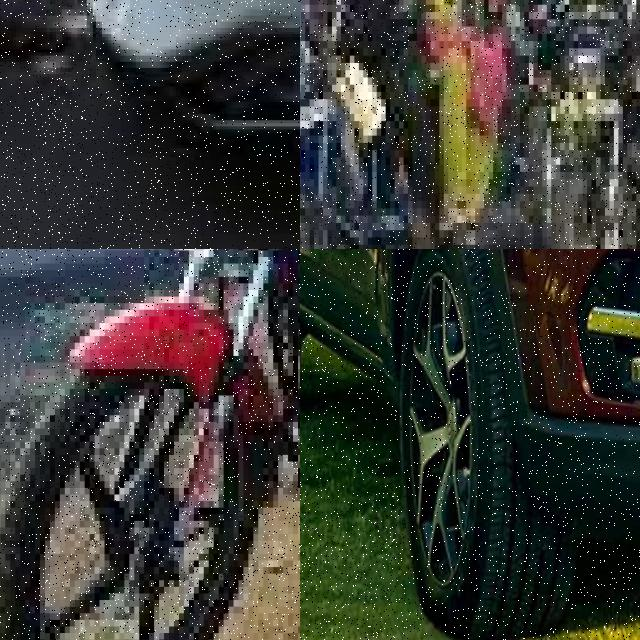bike: (0, 249, 300, 640), (300, 0, 497, 249), (538, 0, 640, 249)
car: (300, 249, 640, 608), (59, 0, 300, 194)
